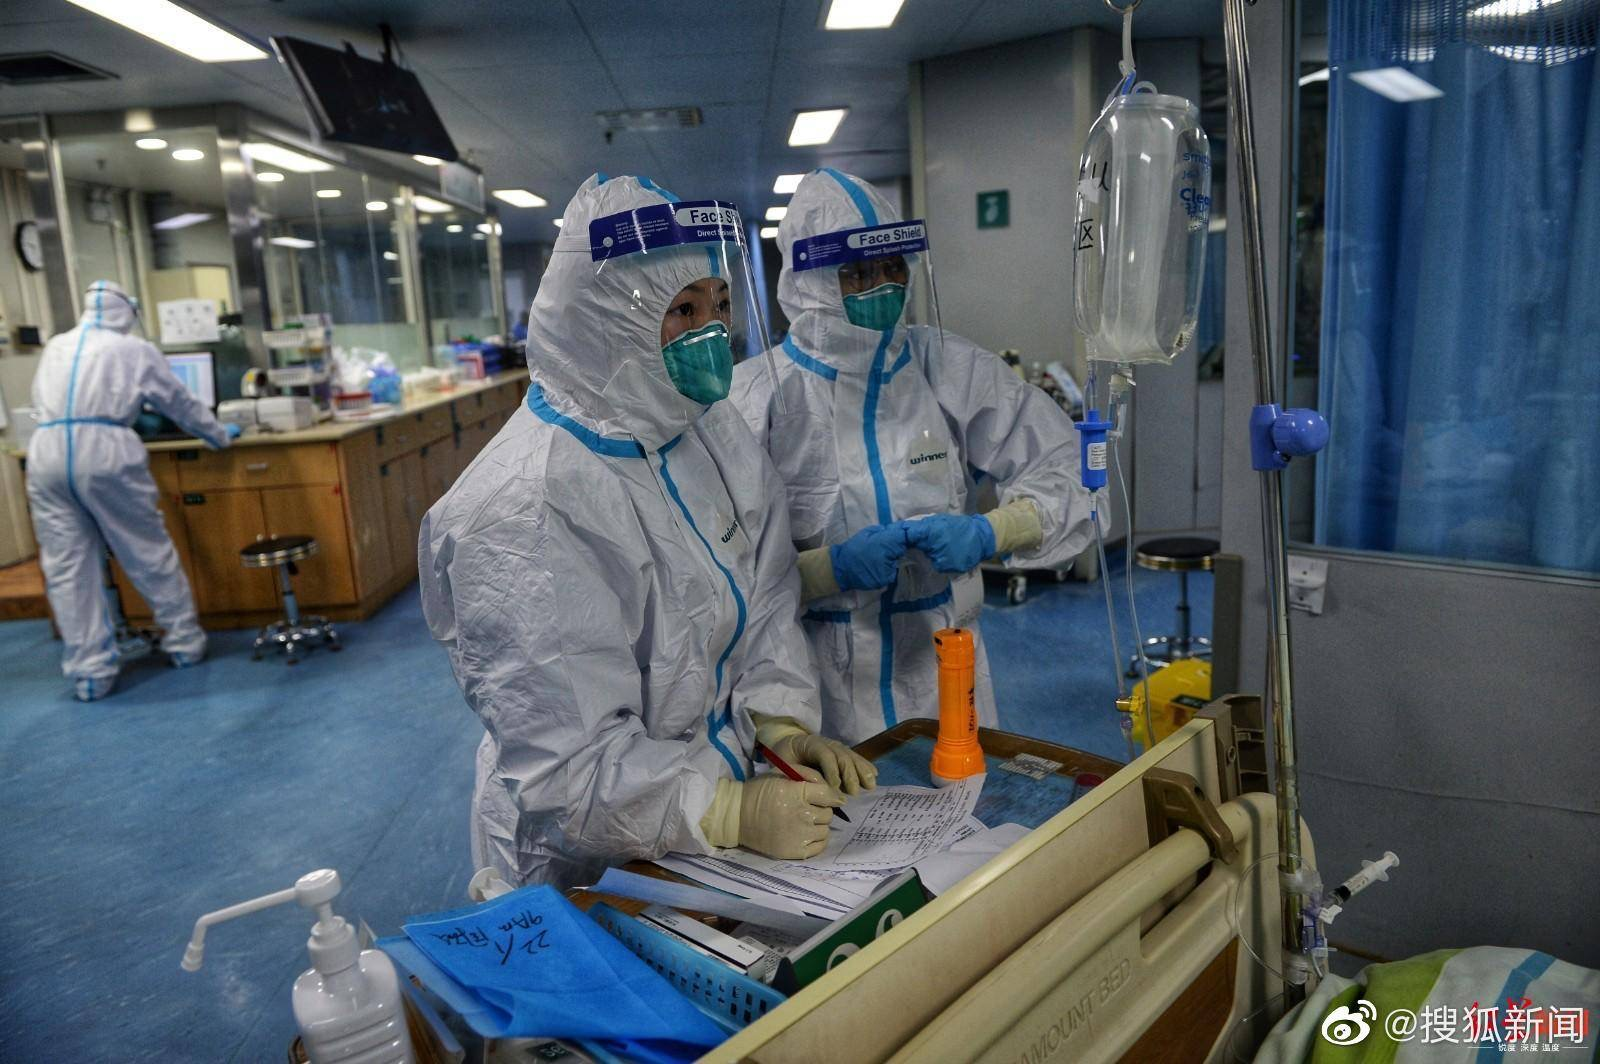rightmask: (528, 173, 735, 465), (769, 161, 936, 395)
